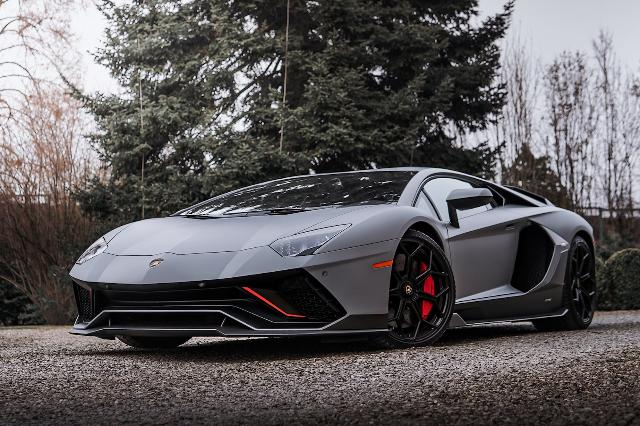lamborghini: (68, 167, 598, 348)
